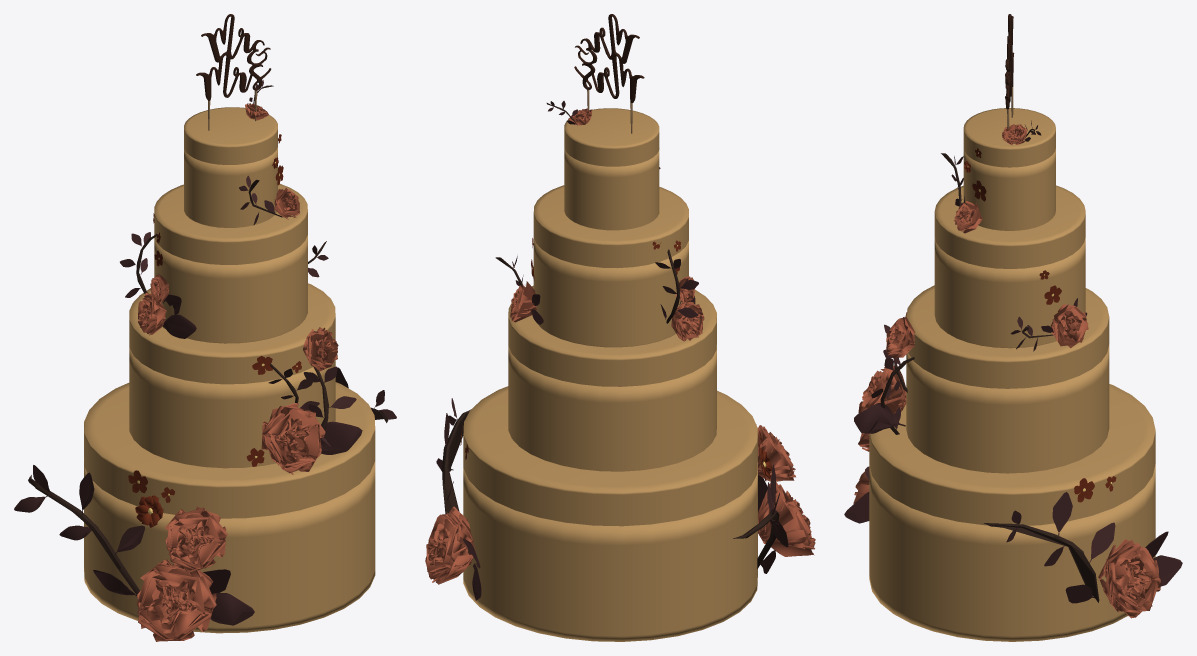
The model's file is 4-tier-caramel-roses-mrms.glb.
The picture shows the model from 3 angles, left to right: view 1: azimuth 30°, elevation 25°; view 2: azimuth 150°, elevation 25°; view 3: azimuth 270°, elevation 25°; orthographic projection.
Parts seen in each view (by area): view 1: 3.001, 3, 2, 1, grid.013, Plane.024, grid.016, grid.012, mrms.004, grid.015, Plane.009, Plane.022 (+7 smaller); view 2: 3.001, 3, 2, 1, grid.020, mrms.004, grid.013, Plane.008, Plane.024, grid.012, grid.017, Plane.023 (+1 smaller); view 3: 3.001, 3, 2, 1, grid.020, Plane.008, grid.016, grid.019, Plane.009, grid.015, mrms.004, grid.021 (+3 smaller).
Boxes of the visible parts, x1=… form: 3.001: x1=84, y1=382, x2=375, y2=633; 3: x1=129, y1=283, x2=335, y2=468; 2: x1=154, y1=184, x2=307, y2=343; 1: x1=184, y1=107, x2=277, y2=227; grid.013: x1=136, y1=559, x2=216, y2=641; Plane.024: x1=14, y1=465, x2=144, y2=595; grid.016: x1=261, y1=403, x2=325, y2=474; grid.012: x1=165, y1=506, x2=227, y2=572; mrms.004: x1=196, y1=14, x2=271, y2=130; grid.015: x1=303, y1=327, x2=338, y2=371; Plane.009: x1=320, y1=421, x2=362, y2=454; Plane.022: x1=210, y1=593, x2=254, y2=625; 3.001: x1=463, y1=386, x2=757, y2=641; 3: x1=508, y1=285, x2=716, y2=471; 2: x1=533, y1=185, x2=688, y2=347; 1: x1=564, y1=108, x2=659, y2=230; grid.020: x1=425, y1=506, x2=475, y2=584; mrms.004: x1=574, y1=14, x2=644, y2=133; grid.013: x1=758, y1=482, x2=815, y2=556; Plane.008: x1=436, y1=398, x2=470, y2=514; Plane.024: x1=733, y1=464, x2=788, y2=573; grid.012: x1=756, y1=424, x2=795, y2=481; grid.017: x1=671, y1=302, x2=704, y2=341; Plane.023: x1=655, y1=249, x2=698, y2=323; 3.001: x1=869, y1=384, x2=1155, y2=641; 3: x1=906, y1=285, x2=1109, y2=473; 2: x1=934, y1=185, x2=1085, y2=348; 1: x1=963, y1=108, x2=1055, y2=230; grid.020: x1=1098, y1=539, x2=1160, y2=618; Plane.008: x1=983, y1=492, x2=1115, y2=603; grid.016: x1=858, y1=365, x2=906, y2=414; grid.019: x1=1050, y1=304, x2=1088, y2=348; Plane.009: x1=854, y1=403, x2=905, y2=433; grid.015: x1=886, y1=317, x2=915, y2=358; mrms.004: x1=1005, y1=14, x2=1014, y2=128; grid.021: x1=954, y1=201, x2=982, y2=233.
Size of the model in its own units: 6.25 by 9.28 by 5.05.
